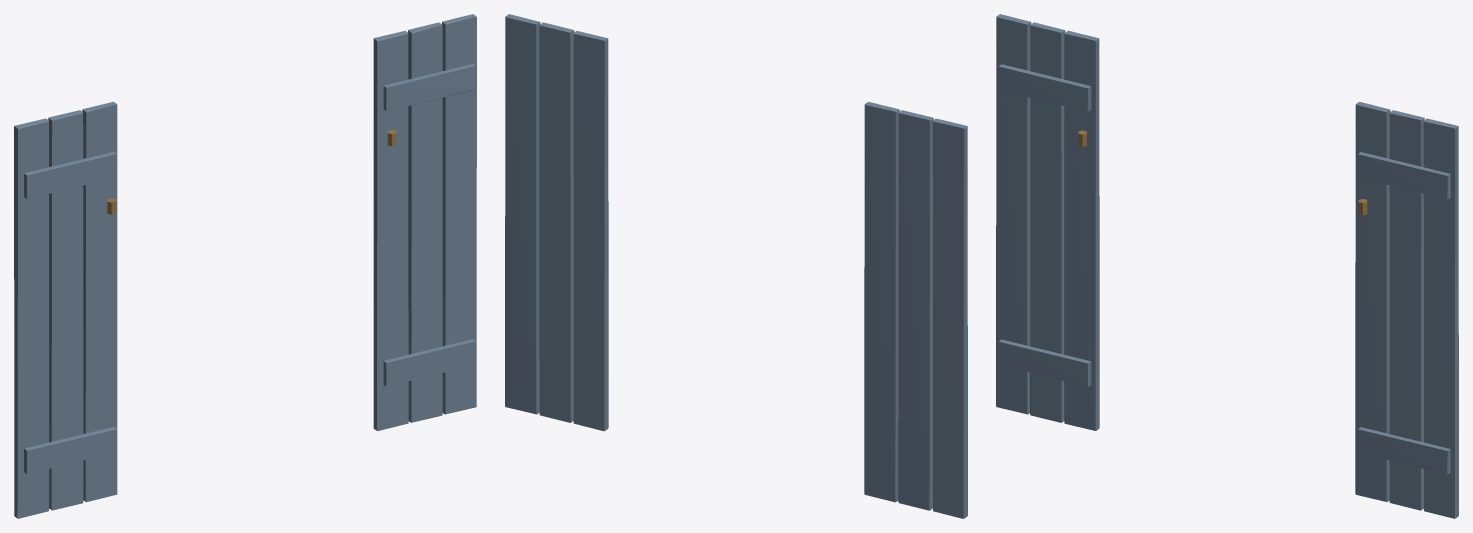
The model's file is SM_Kit_Shutters_Board_LOD2.glb.
The picture shows the model from 3 angles, left to right: view 1: azimuth 30°, elevation 25°; view 2: azimuth 150°, elevation 25°; view 3: azimuth 330°, elevation 25°; orthographic projection.
Visible parts, largest first — view 1: SM_Kit_Shutters_Board_LOD2; view 2: SM_Kit_Shutters_Board_LOD2; view 3: SM_Kit_Shutters_Board_LOD2.
Part boxes in pixels (x1=…): SM_Kit_Shutters_Board_LOD2: x1=14, y1=14, x2=476, y2=518; SM_Kit_Shutters_Board_LOD2: x1=505, y1=14, x2=967, y2=518; SM_Kit_Shutters_Board_LOD2: x1=996, y1=14, x2=1458, y2=518.
Bounding box in the file's own units: 1.57 × 1.28 × 0.0569.
